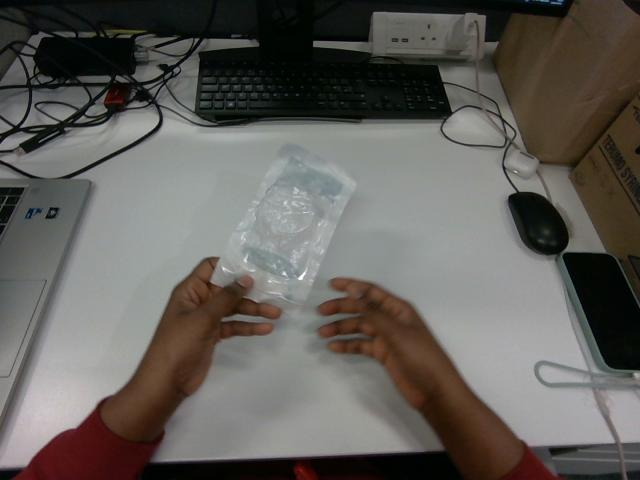gallipot: (211, 145, 355, 308)
